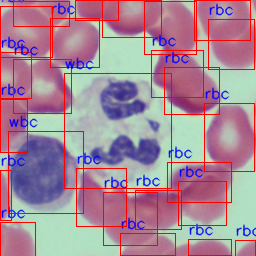rbc: (204, 103, 254, 171), (13, 59, 71, 113), (76, 168, 126, 226), (103, 192, 157, 245), (144, 1, 196, 54), (0, 6, 52, 57), (164, 67, 219, 114), (167, 162, 231, 202), (151, 50, 203, 97), (50, 18, 99, 67), (208, 19, 254, 69), (194, 0, 250, 40), (102, 0, 161, 37), (178, 181, 226, 225), (135, 190, 181, 229), (0, 99, 27, 152), (0, 52, 31, 98), (13, 1, 69, 26), (120, 233, 175, 255), (0, 222, 35, 256), (75, 0, 118, 20), (188, 239, 231, 255), (0, 170, 11, 220), (235, 240, 255, 256)
wbc: (64, 73, 171, 188), (8, 131, 83, 213)
